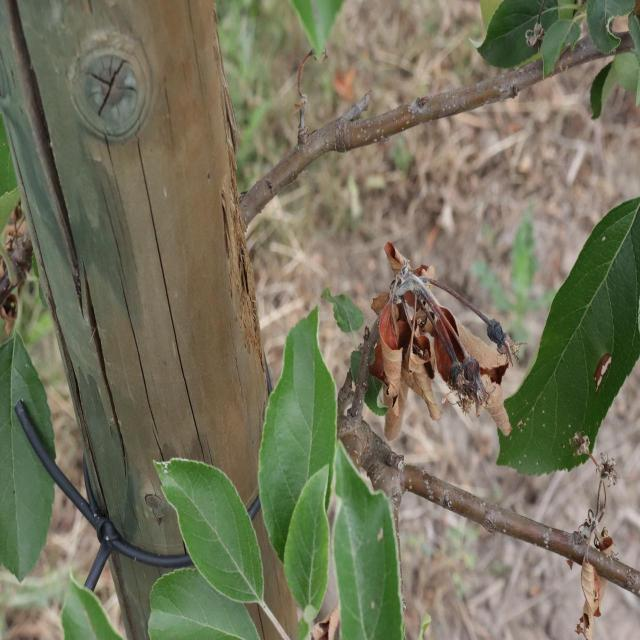-FireBlight-: (365, 261, 519, 440)
